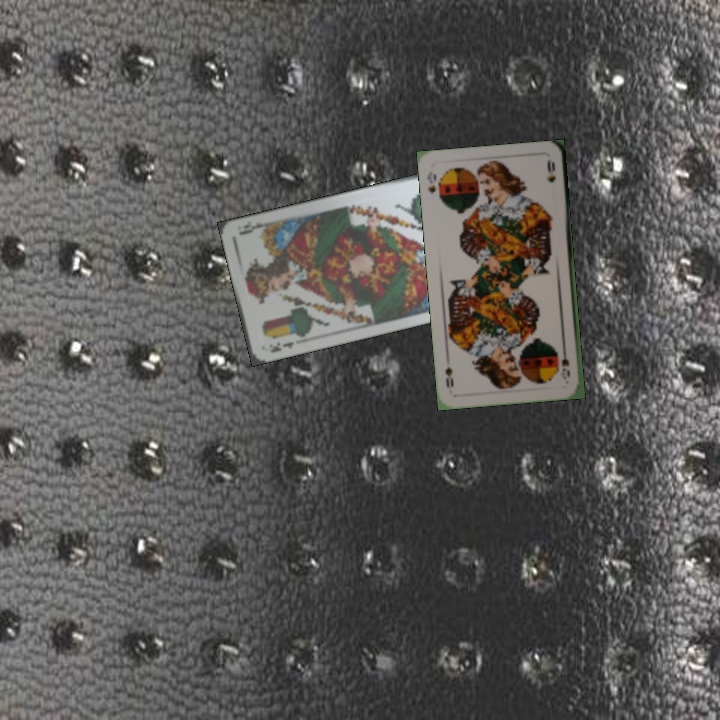EK: (266, 337, 297, 355)
SO: (558, 343, 572, 382), (423, 168, 439, 196)
